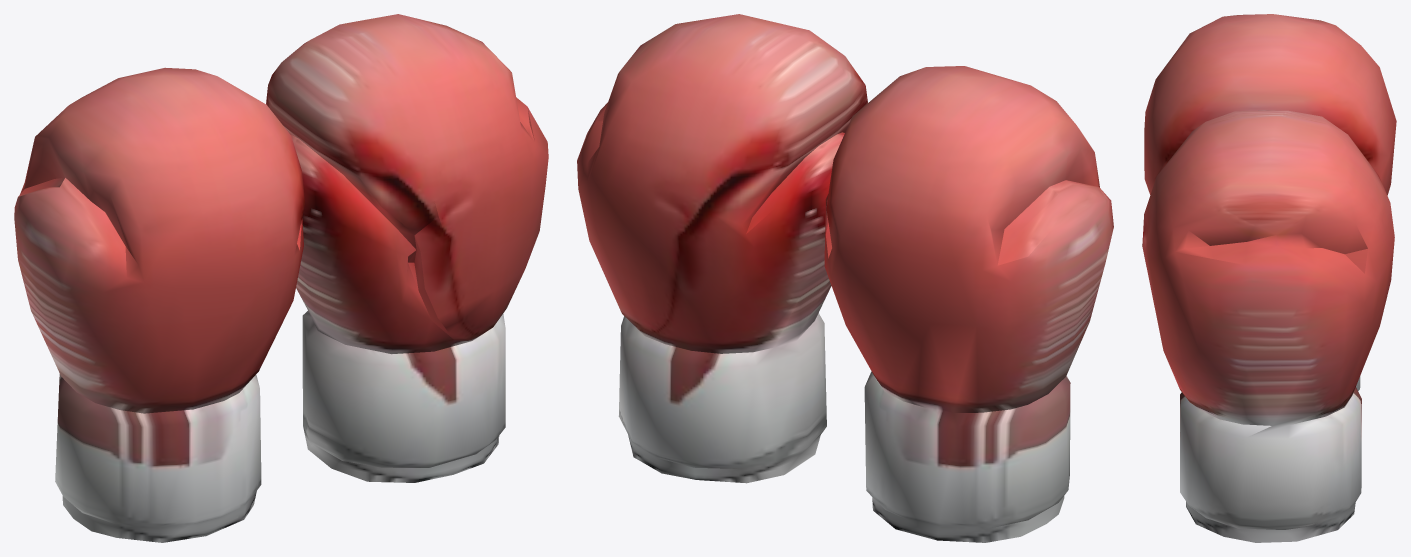
3 renders of one model, left to right at view 1: azimuth 30°, elevation 25°; view 2: azimuth 150°, elevation 25°; view 3: azimuth 270°, elevation 25°, orthographic. The views are drawn at different scales.
Visible parts, largest first — view 1: Decor_boxing_gloves; view 2: Decor_boxing_gloves; view 3: Decor_boxing_gloves.
Part boxes in pixels (<box>): Decor_boxing_gloves: <box>14,14,548,542</box>; Decor_boxing_gloves: <box>577,14,1113,542</box>; Decor_boxing_gloves: <box>1142,14,1396,542</box>.
Bounding box in the file's own units: 0.3639 × 0.2998 × 0.1823.
Materials: 1 (1 with a texture image).
